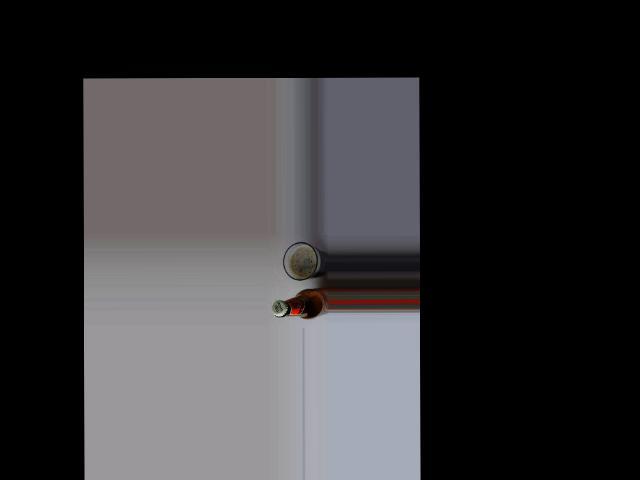beer: (272, 287, 329, 318)
